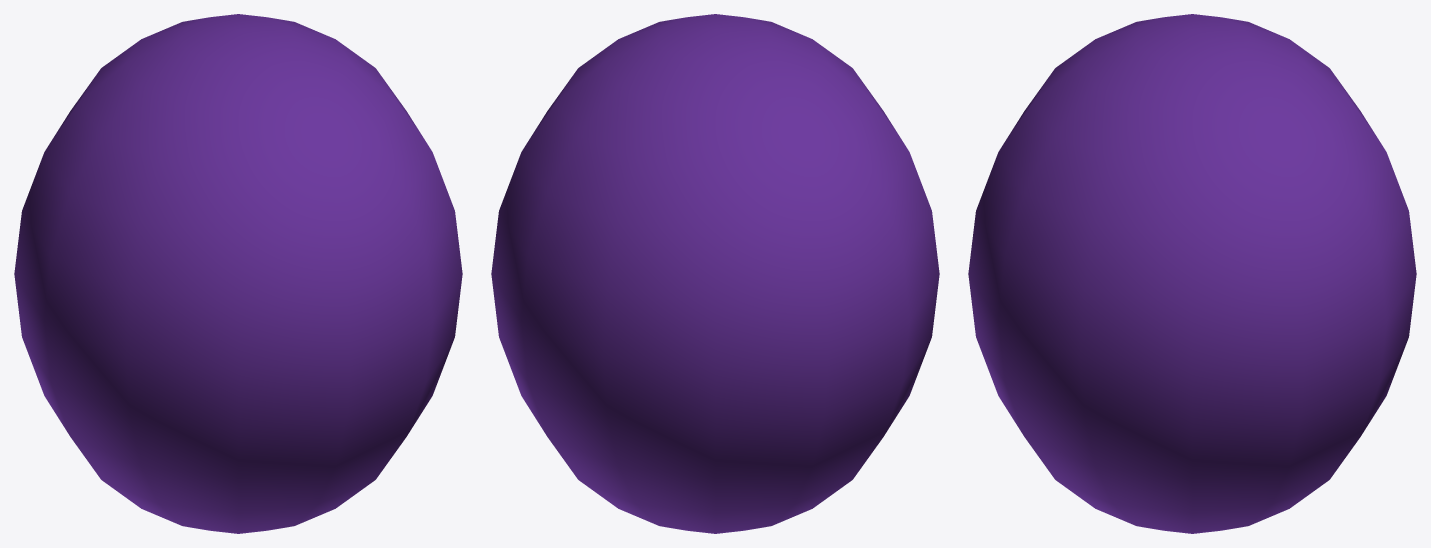
The model's file is Arcanshade_stage2.obj.
3 views of the same model, side by side, from view 1: azimuth 30°, elevation 25°; view 2: azimuth 150°, elevation 25°; view 3: azimuth 270°, elevation 25° (orthographic).
Bounding box in the file's own units: 2 × 2.4 × 2.
